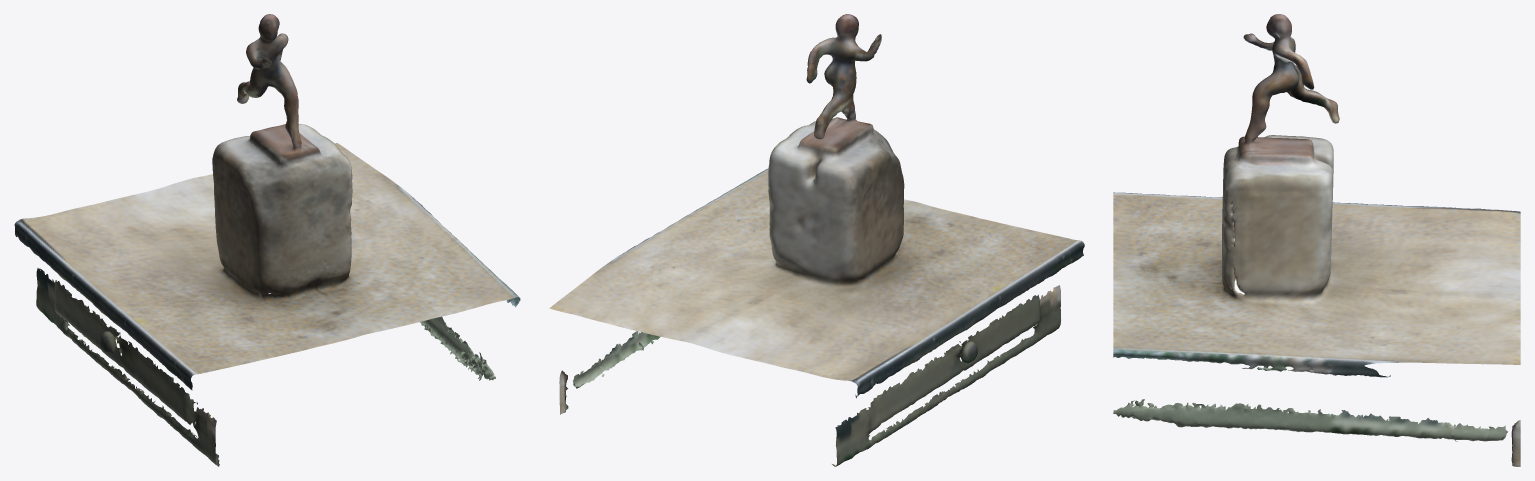
Rendered from coureur.glb.
3 views of the same model, side by side, from view 1: azimuth 30°, elevation 25°; view 2: azimuth 150°, elevation 25°; view 3: azimuth 270°, elevation 25° (orthographic). The views are drawn at different scales.
Visible parts, largest first — view 1: Model.001; view 2: Model.001; view 3: Model.001.
Boxes of the visible parts, x1,y1,x2,y2 form: Model.001: (14,14,520,466); Model.001: (549,14,1084,466); Model.001: (1113,14,1520,466).
Bounding box in the file's own units: 0.482 × 0.4857 × 0.489.
Materials: 1 (1 with a texture image).
